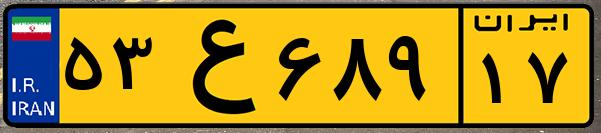1: (475, 38, 525, 113)
3: (110, 28, 158, 98)
5: (57, 26, 110, 100)
6: (270, 28, 330, 110)
7: (525, 38, 570, 115)
8: (330, 28, 385, 110)
9: (385, 28, 445, 110)
ع: (158, 12, 270, 120)
